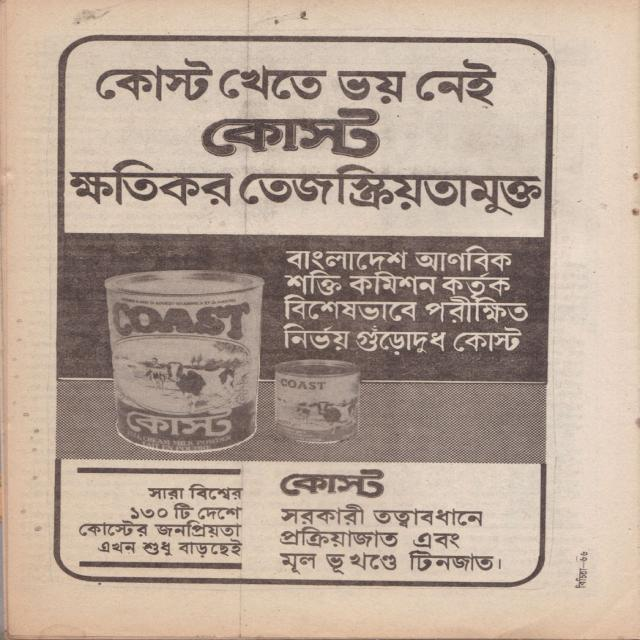advertisement: (45, 44, 550, 584)
page number: (576, 551, 590, 568)
text: (575, 566, 588, 589)
